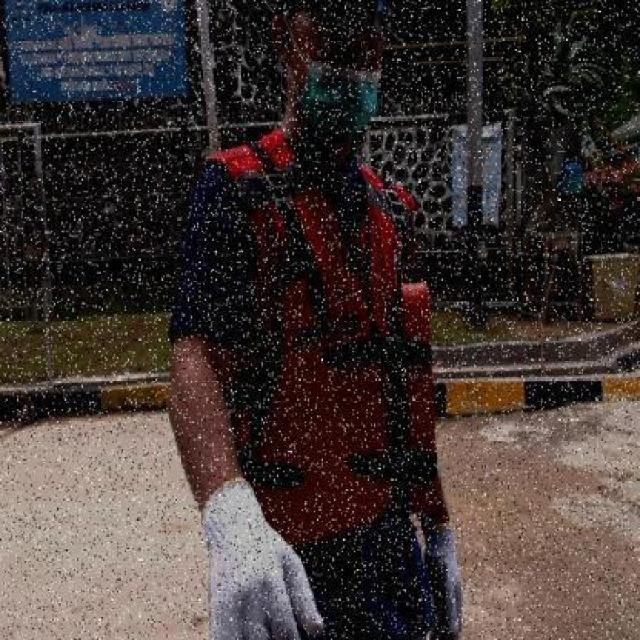Gloves: (196, 473, 327, 639), (421, 517, 467, 638)
Mask: (303, 56, 383, 144)
Protective Glasses: (301, 0, 389, 35)
Vest: (254, 278, 441, 547)
